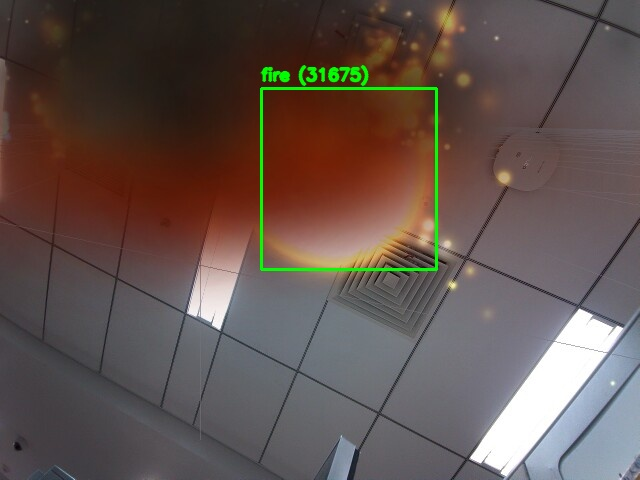fire: (261, 88, 436, 269)
